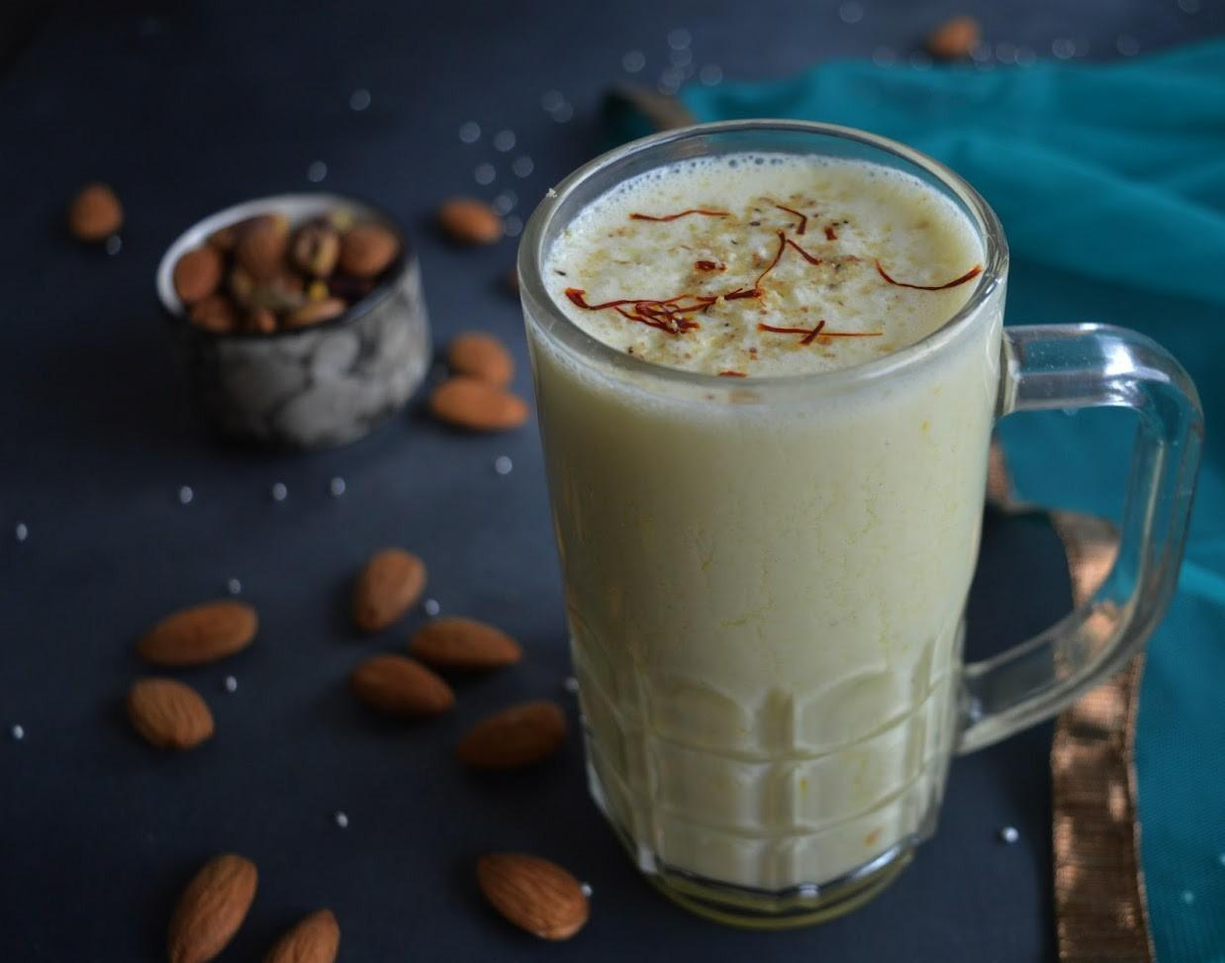Lassi: (536, 156, 1001, 890)
